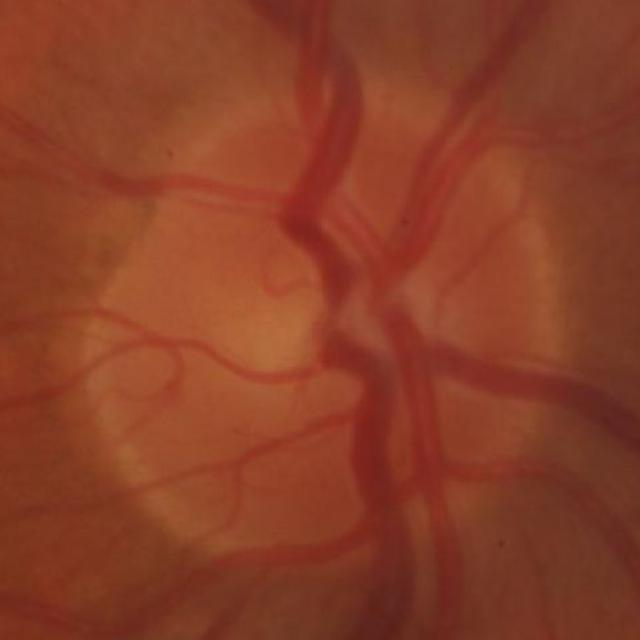OC: (259, 308, 368, 410)
OD: (86, 100, 540, 577)
